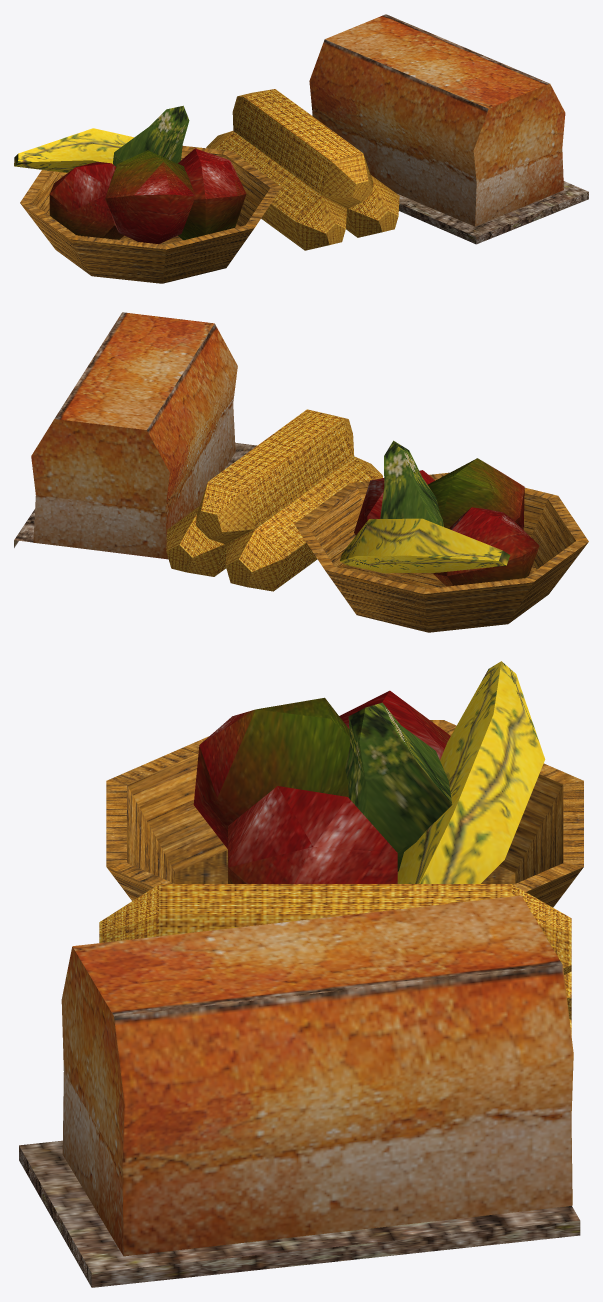
Rendered from mm9_deco_shelfitem07hpie.glb.
The picture shows the model from 3 angles, top to bottom: view 1: azimuth 30°, elevation 25°; view 2: azimuth 150°, elevation 25°; view 3: azimuth 270°, elevation 25°; orthographic projection. The views are drawn at different scales.
Visible parts, largest first — view 1: Shelfitem07hpie; view 2: Shelfitem07hpie; view 3: Shelfitem07hpie.
Part boxes in pixels (x1=…): Shelfitem07hpie: x1=14, y1=14, x2=588, y2=283; Shelfitem07hpie: x1=14, y1=312, x2=588, y2=632; Shelfitem07hpie: x1=19, y1=661, x2=583, y2=1287.
Bounding box in the file's own units: 0.8165 × 0.2039 × 0.4155.
2 materials, 2 textured.
